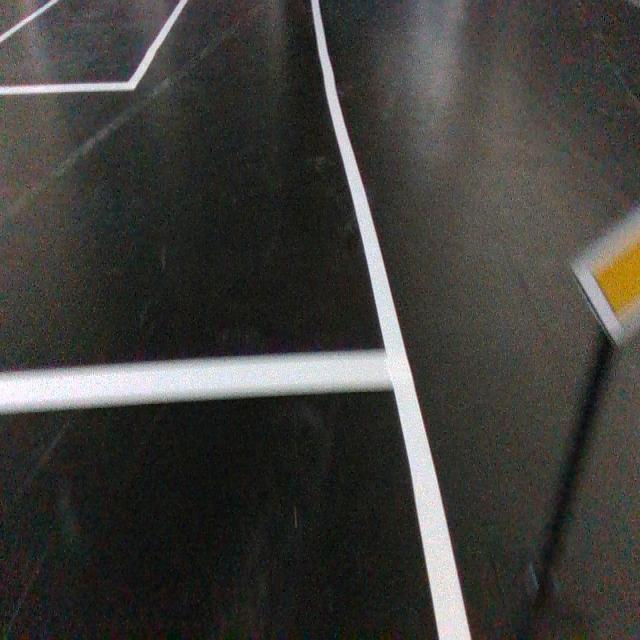priority-sign: (569, 200, 640, 351)
